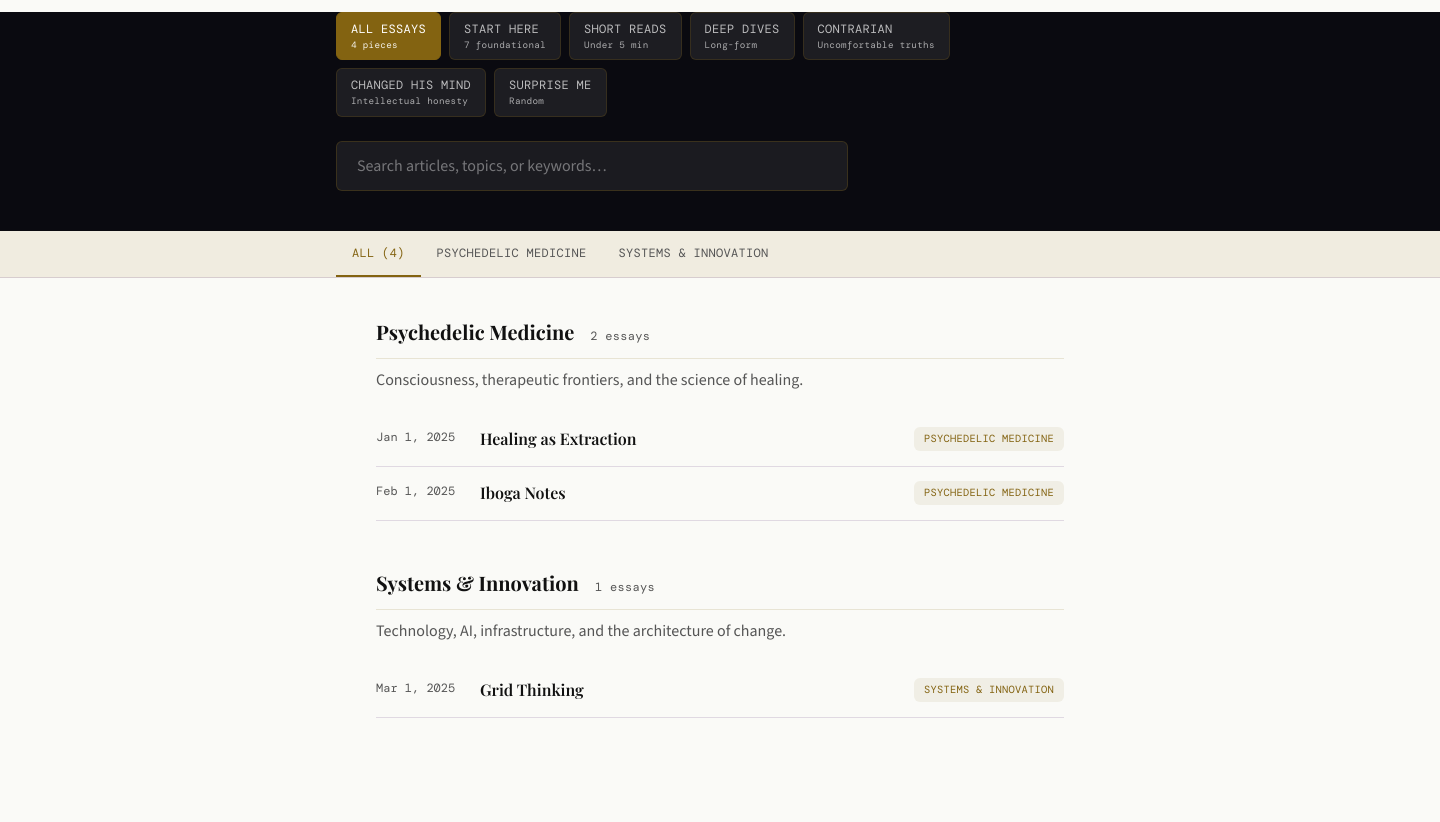
ArticlesExplorer › 'Start Here' shows only the foundational essays with its intro
Click the button "Start Here 7 foundational".
click(505, 36)  # box left=449, top=12, right=561, bottom=60
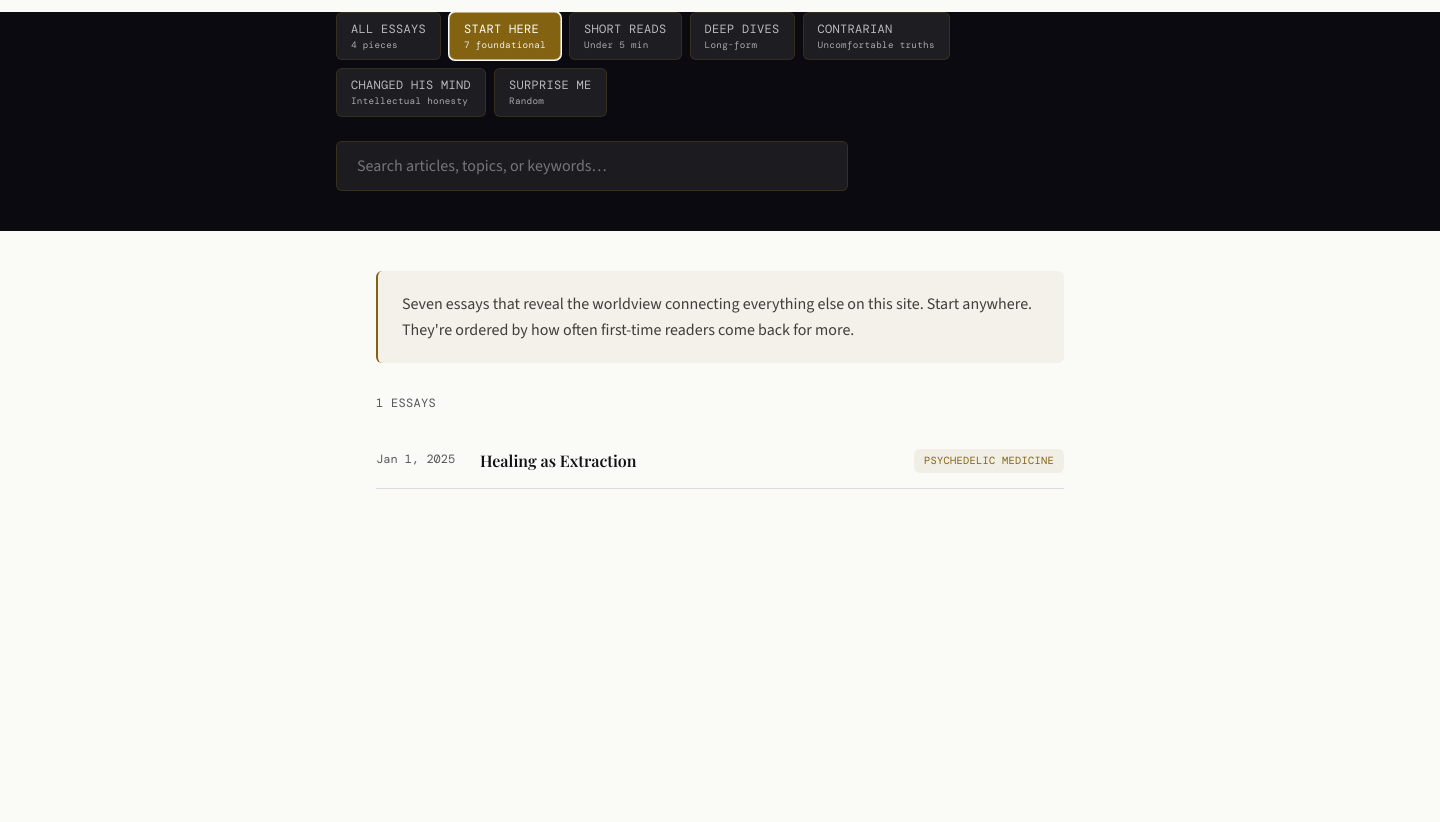
Check: the text "1 essays" is shown, box left=376, top=395, right=436, bottom=411
Check: the text "Seven essays that reveal the worldview" is shown, box left=402, top=293, right=1032, bottom=340
